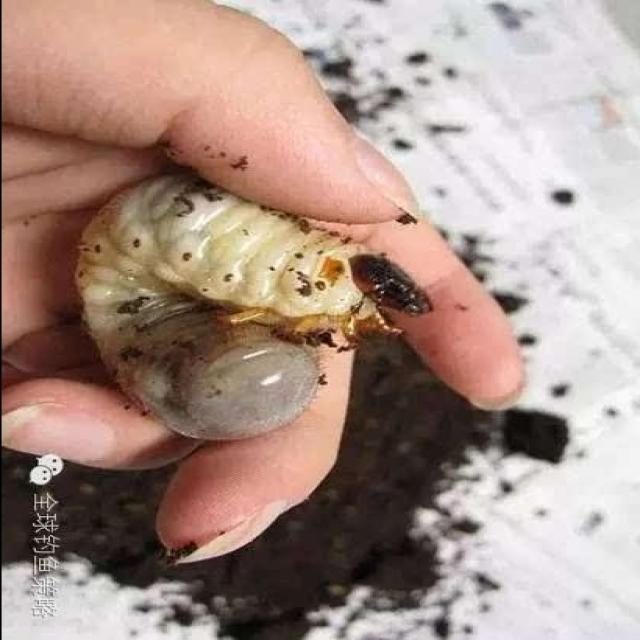grub: (55, 186, 422, 457)
